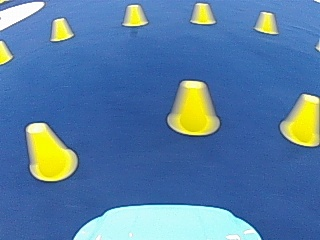cone: (23, 122, 75, 181), (168, 80, 218, 136), (280, 93, 319, 146), (49, 16, 73, 41), (122, 4, 147, 27), (190, 2, 215, 25), (254, 11, 278, 34), (0, 40, 13, 64)
